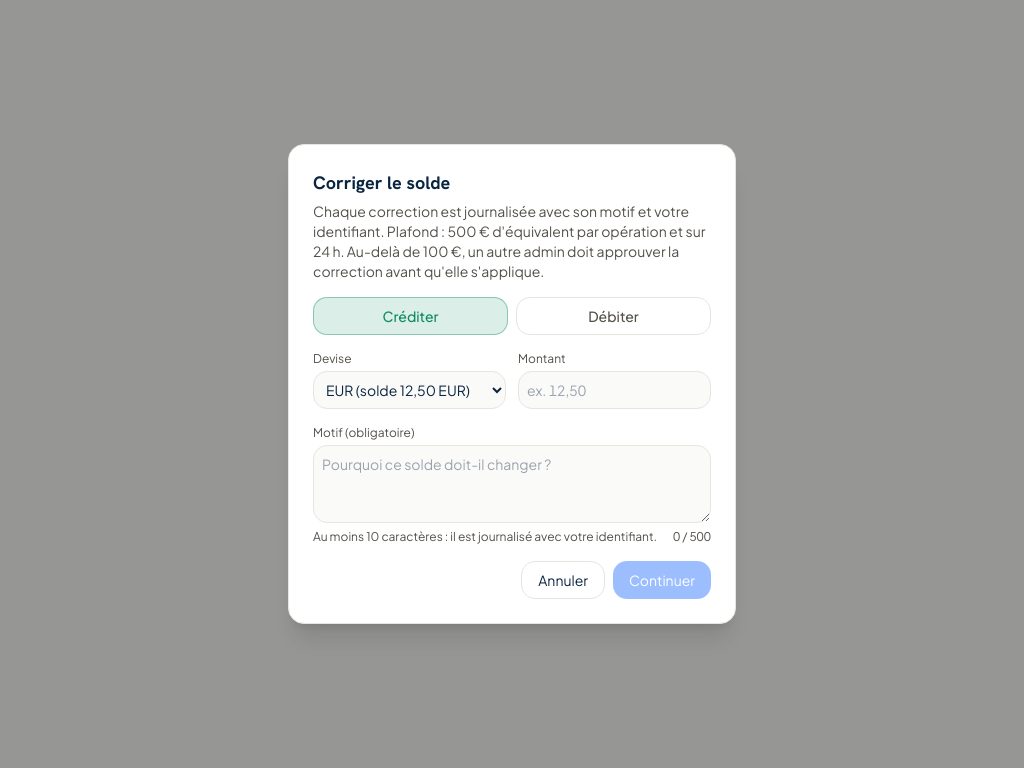
Test case: WalletAdjustmentDialog › débit supérieur au solde : bloqué côté client avec explication
Click the button with test id "adj-direction-debit" at x=614, y=316, box [516, 297, 711, 335]
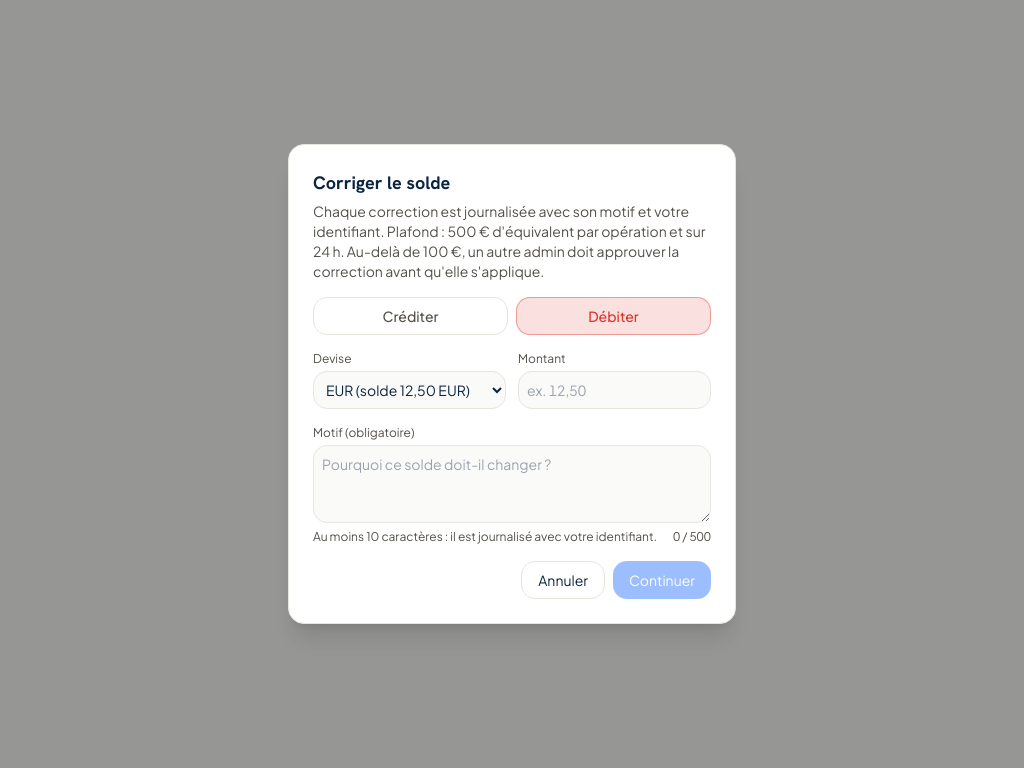
Type "20" into the field with test id "adj-amount" at x=614, y=390, box [518, 371, 711, 409]
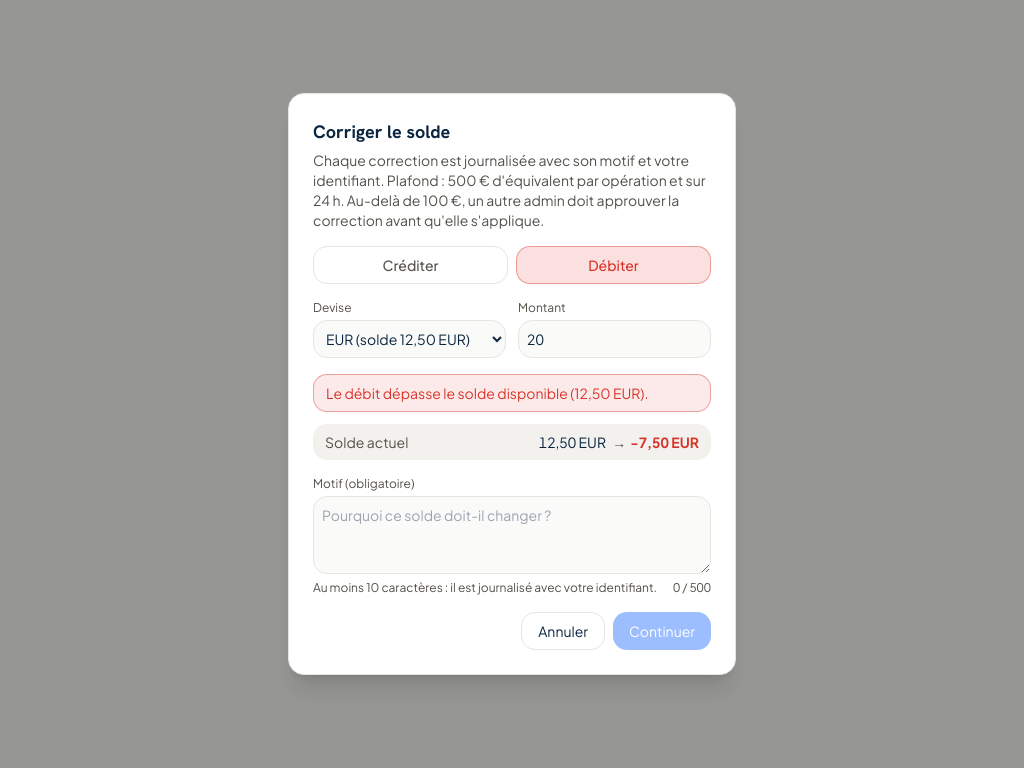
Type "Geste commercial après incident de livraison" into the text box with test id "adj-reason" at x=512, y=535, box [313, 496, 711, 574]
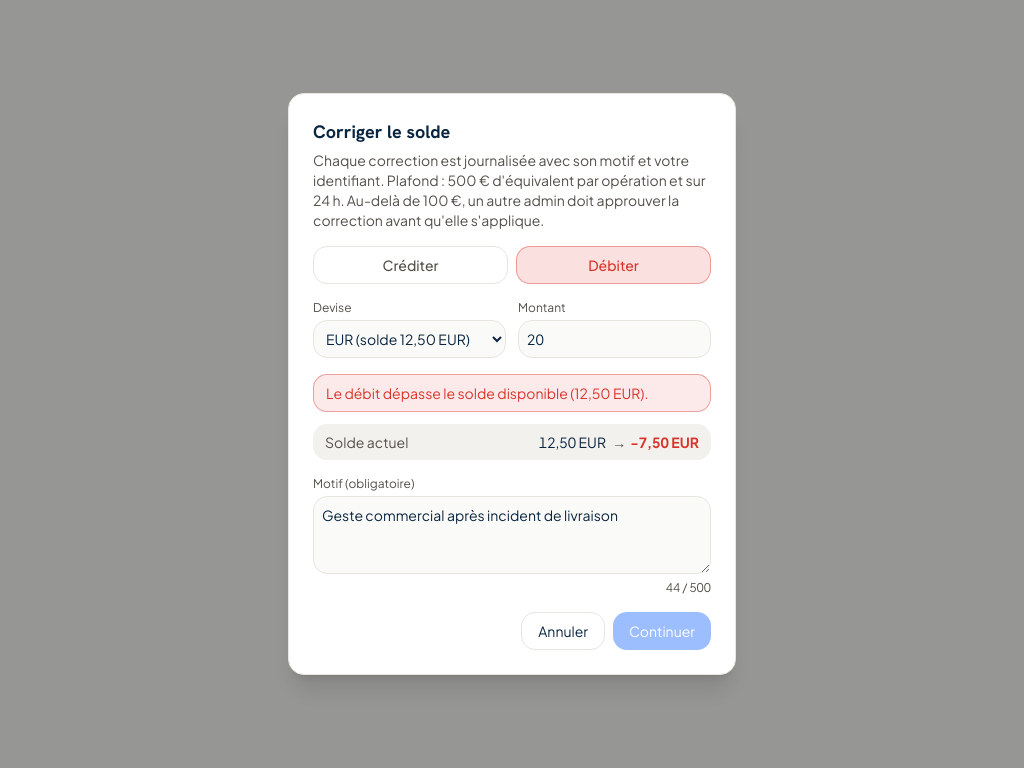
Expected: the button with test id "adj-continue" is disabled, [613, 612, 711, 650]
Expected: the button with test id "adj-debit-exceeds" is shown, [313, 374, 711, 412]
Replace the text in the field with test id "adj-amount" with "12.5" at x=614, y=339, box [518, 320, 711, 358]
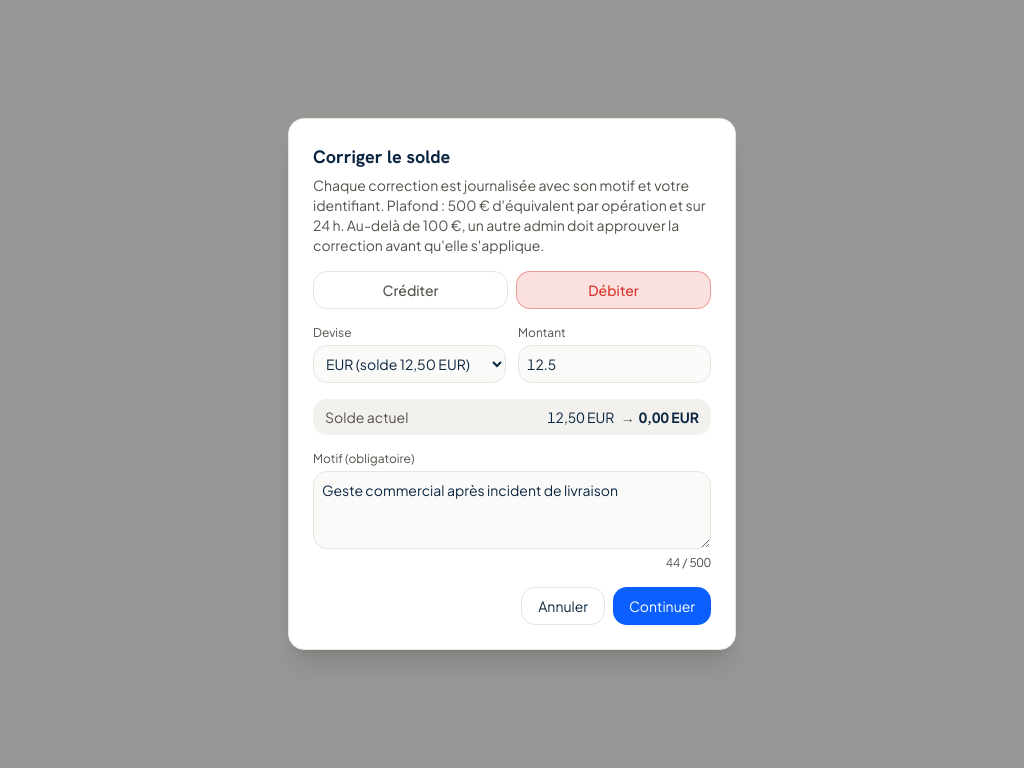
Expected: the button with test id "adj-continue" is enabled, [613, 587, 711, 625]
Expected: the button with test id "adj-recap" shows "0,00 EUR", [639, 408, 699, 426]
